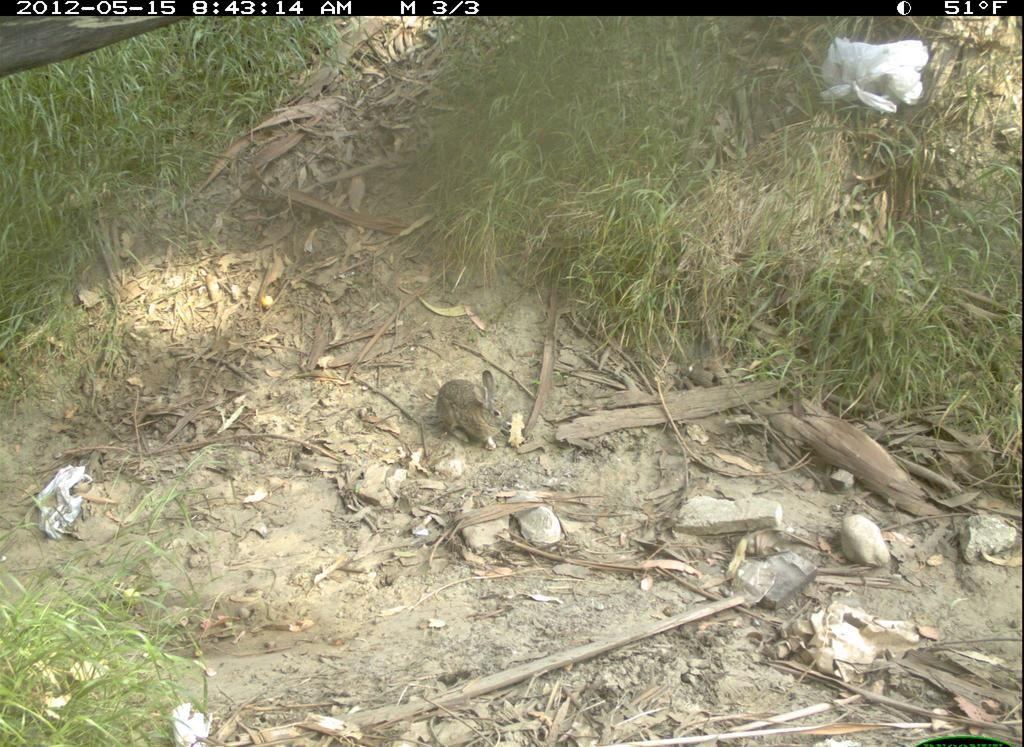rabbit: (425, 358, 527, 447)
